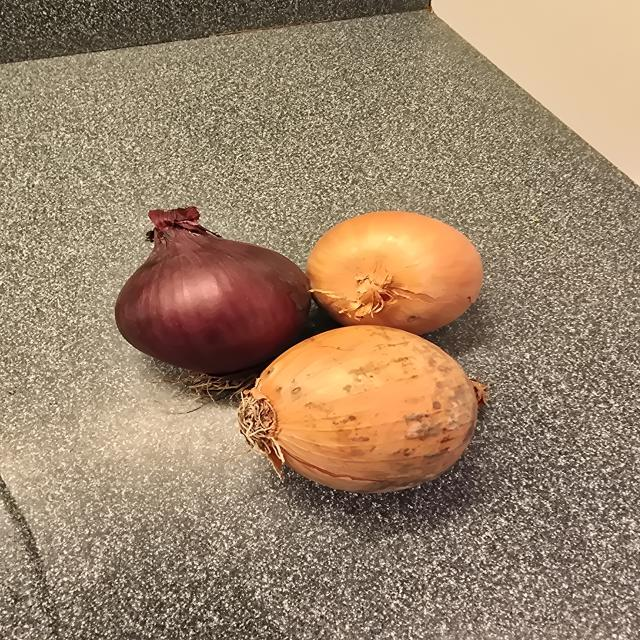Onion: (238, 326, 486, 492), (115, 206, 311, 374), (305, 211, 483, 335)
